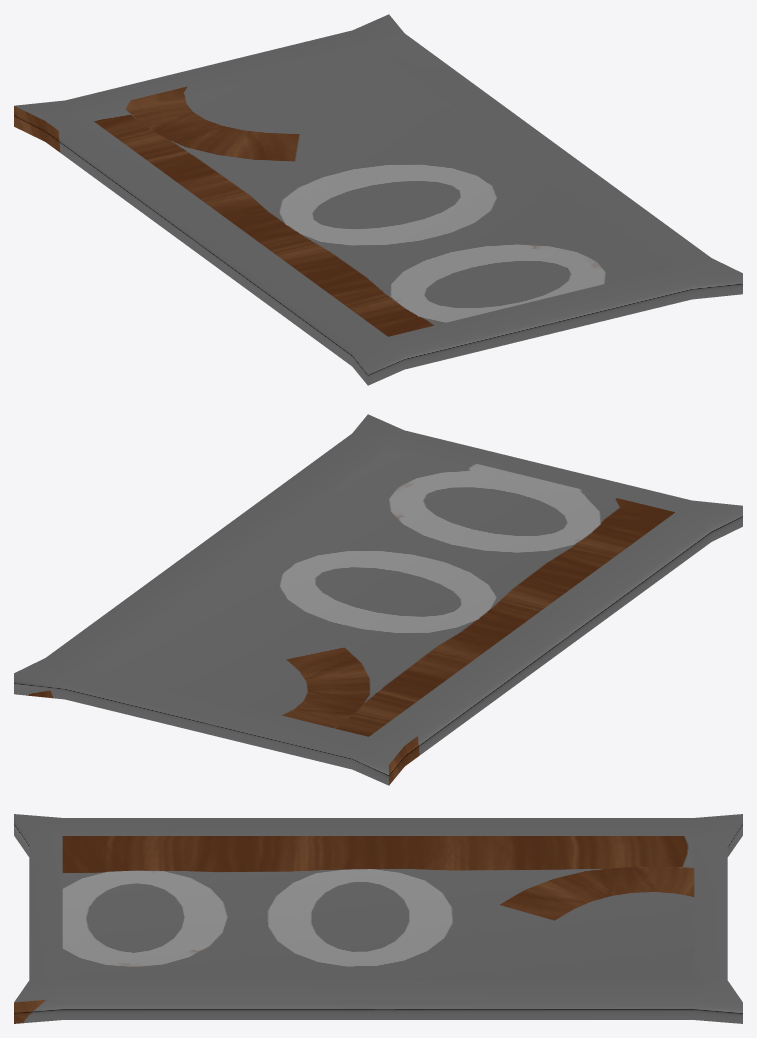
The model's file is BandejaRetangular.fbx.
The picture shows the model from 3 angles, top to bottom: view 1: azimuth 30°, elevation 25°; view 2: azimuth 150°, elevation 25°; view 3: azimuth 270°, elevation 25°; orthographic projection. The views are drawn at different scales.
Visible parts, largest first — view 1: pCube7; view 2: pCube7; view 3: pCube7.
Part boxes in pixels (left/top/right/bottom): pCube7: left=14, top=14, right=742, bottom=385; pCube7: left=14, top=414, right=742, bottom=785; pCube7: left=14, top=814, right=742, bottom=1023.
Size of the model in its own units: 1.04 by 0.0557 by 1.71.
